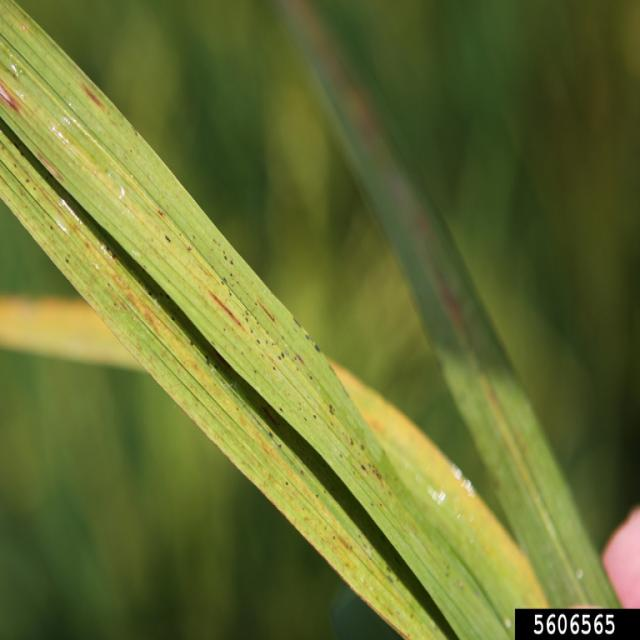Brown spot: (0, 0, 621, 640)
